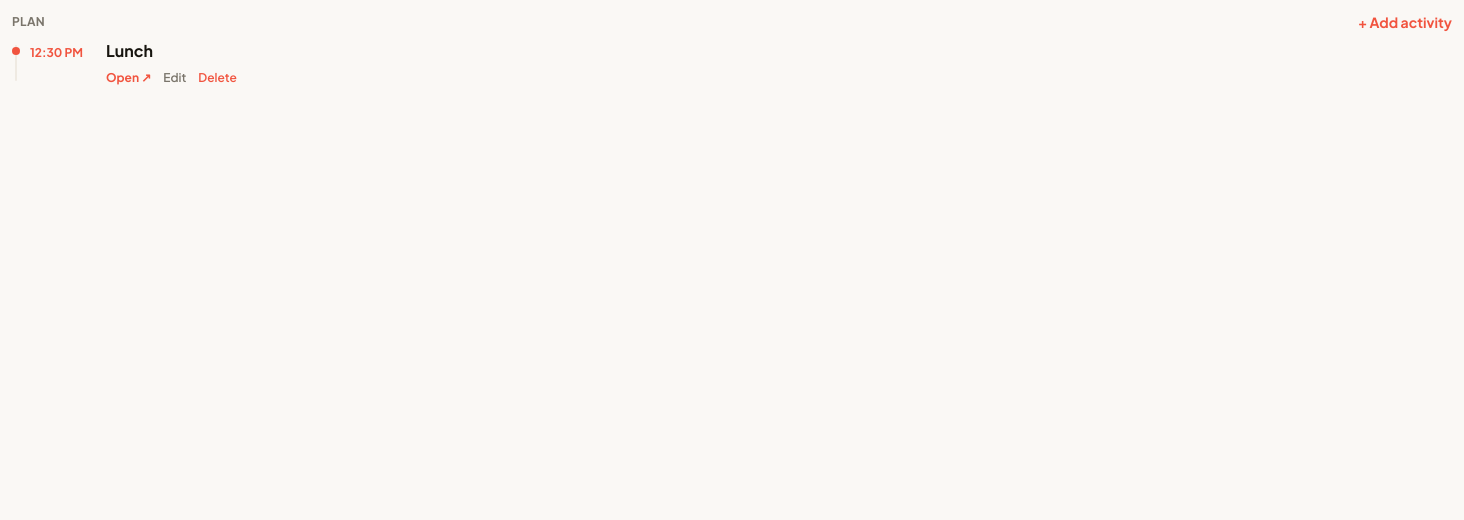
it: editing a plan line that already has one › opens with the location showing, since there it is something to read
Click the button "Edit" at (175, 78), box [163, 70, 186, 86]
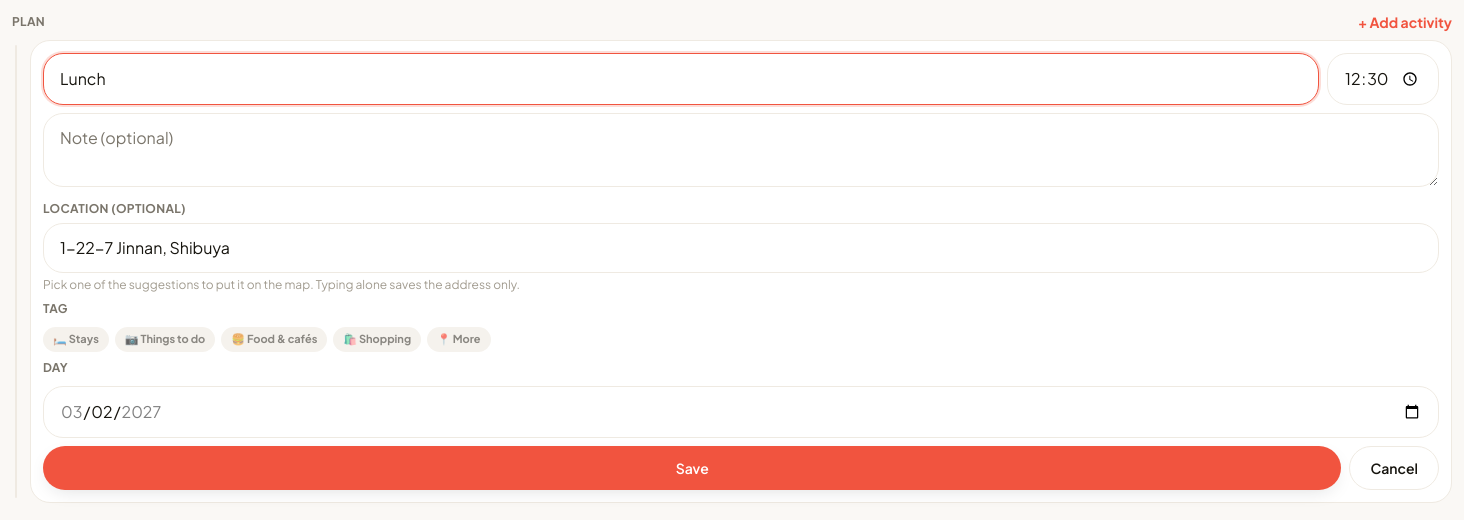
Expected: the field labelled "Location (optional)" holds "1-22-7 Jinnan, Shibuya", [43, 223, 1439, 273]
